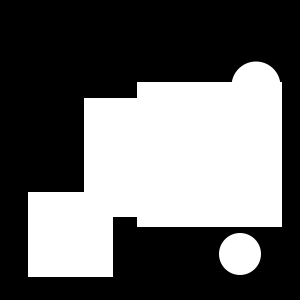circle: (137, 82, 282, 227), (84, 98, 203, 217), (28, 192, 113, 277)
rectangle: (232, 62, 280, 110), (219, 233, 261, 275)
